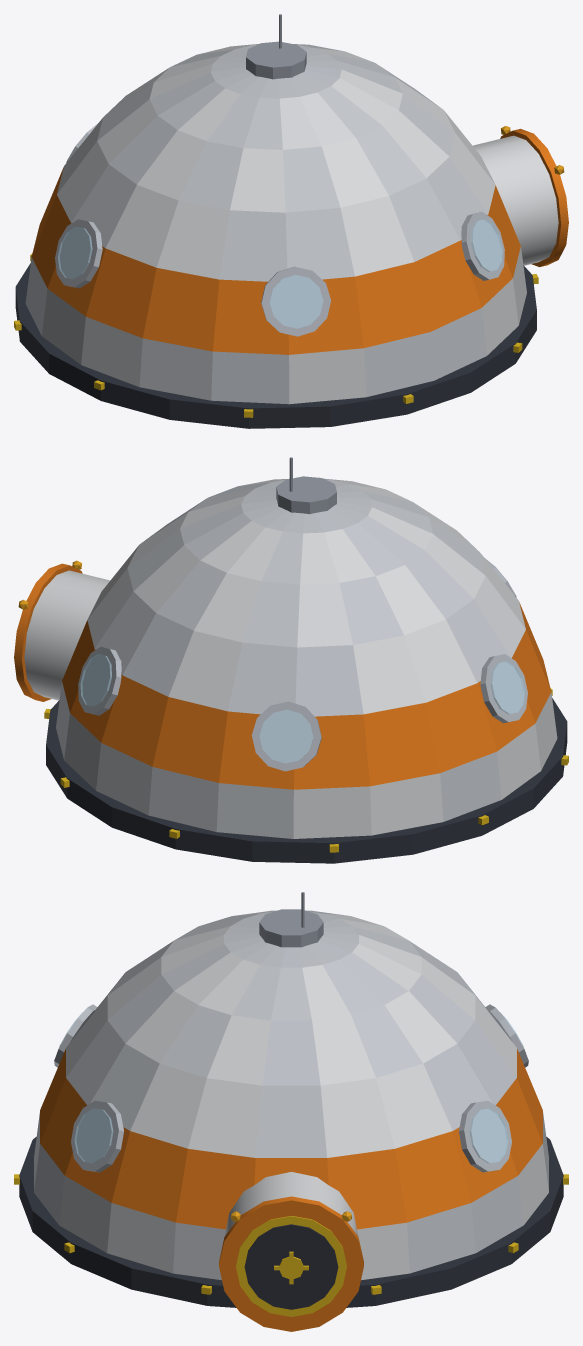
File: dome.glb
The picture shows the model from 3 angles, top to bottom: view 1: azimuth 30°, elevation 25°; view 2: azimuth 150°, elevation 25°; view 3: azimuth 270°, elevation 25°; orthographic projection. The views are drawn at different scales.
Parts seen in each view (by area): view 1: Body, Lights_glow; view 2: Body, Lights_glow; view 3: Body, Lights_glow.
Part boxes in pixels (box(x1,y1,x2,y2)): Body: box(15, 14, 568, 428); Lights_glow: box(14, 126, 564, 417); Body: box(14, 457, 567, 863); Lights_glow: box(18, 560, 568, 852); Body: box(19, 892, 563, 1331); Lights_glow: box(14, 1174, 568, 1294).
Size of the model in its own units: 10.02 by 5.91 by 9.48.
